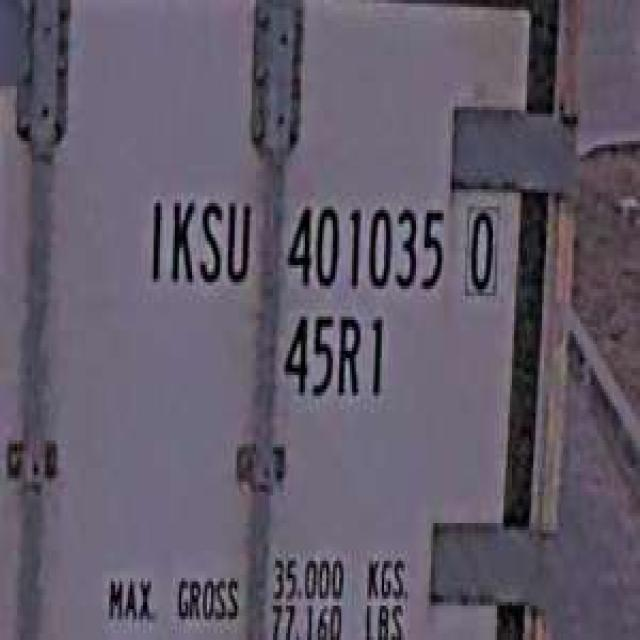dv: (458, 192, 504, 302)
owner: (141, 182, 254, 300)
serial: (282, 190, 448, 300)
size: (278, 306, 392, 413)
